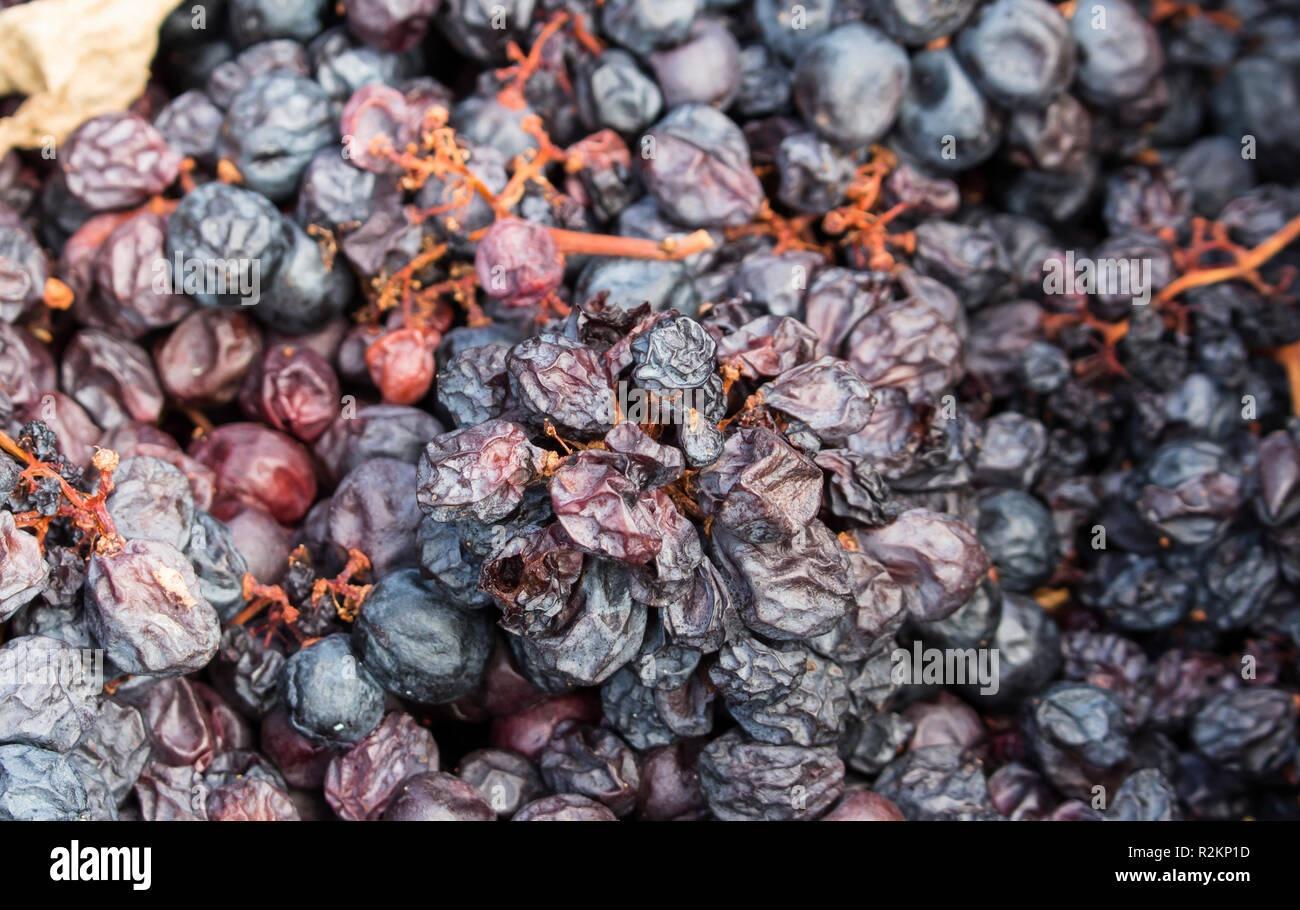Grape Overripe: (0, 0, 1299, 819)
